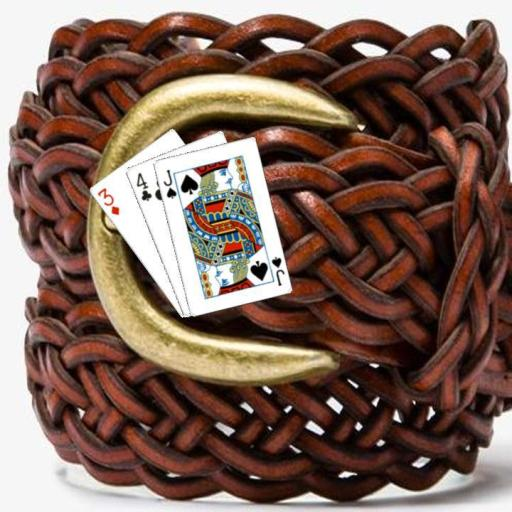3D: (94, 184, 121, 217)
4C: (133, 169, 153, 203)
JS: (160, 166, 178, 200), (268, 253, 286, 287)
